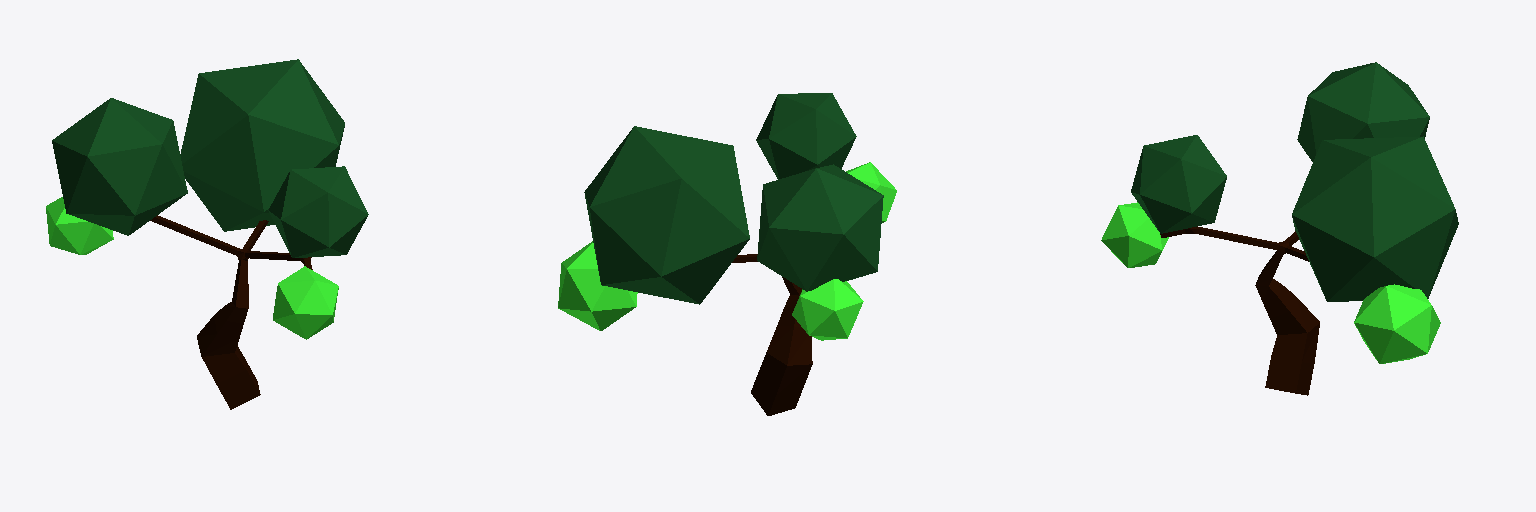
File: Tree.obj
3 views of the same model, side by side, from view 1: azimuth 30°, elevation 25°; view 2: azimuth 150°, elevation 25°; view 3: azimuth 270°, elevation 25° (orthographic).
Visible parts, largest first — view 1: Icosphere.004, Icosphere.003, Icosphere.005, Branch, Icosphere, Icosphere.001; view 2: Icosphere.004, Icosphere.003, Icosphere.005, Branch, Icosphere.002, Icosphere.001, Icosphere; view 3: Icosphere.004, Icosphere.003, Icosphere.005, Branch, Icosphere.002, Icosphere.
Part boxes in pixels (x1,y1,x2,y2): Icosphere.004: (180, 59, 344, 231); Icosphere.003: (52, 98, 187, 235); Icosphere.005: (268, 166, 368, 257); Branch: (150, 215, 312, 409); Icosphere: (273, 266, 338, 339); Icosphere.001: (46, 197, 113, 254); Icosphere.004: (584, 126, 749, 304); Icosphere.003: (757, 164, 883, 291); Icosphere.005: (756, 93, 856, 179); Branch: (732, 254, 812, 415); Icosphere.002: (558, 241, 637, 330); Icosphere.001: (792, 279, 863, 340); Icosphere: (846, 162, 896, 222); Icosphere.004: (1292, 136, 1458, 301); Icosphere.003: (1297, 62, 1429, 161); Icosphere.005: (1131, 135, 1226, 233); Branch: (1160, 226, 1319, 395); Icosphere.002: (1354, 284, 1440, 363); Icosphere: (1101, 202, 1168, 267).
Bounding box in the file's own units: 14.92 × 13.97 × 15.45.